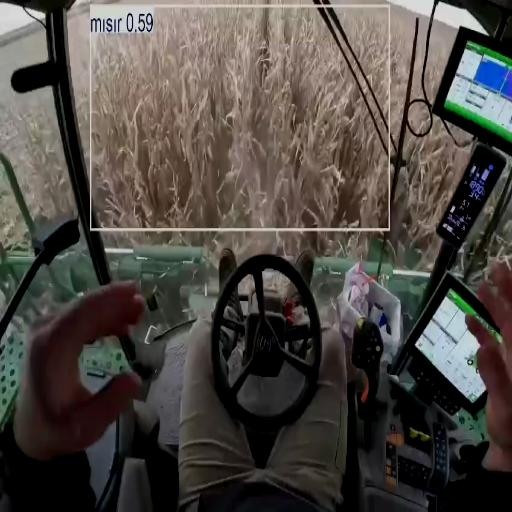misir: (91, 7, 386, 229)
